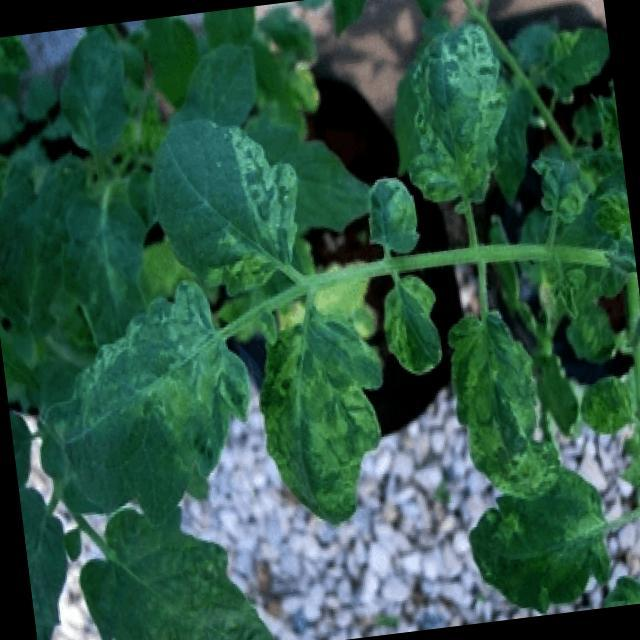Tomato healthy leaf: (67, 485, 282, 640)
Tomato mosaic virus leaf: (17, 271, 268, 542), (248, 295, 401, 532), (140, 103, 314, 310), (378, 4, 521, 225), (440, 300, 564, 508), (457, 460, 614, 623), (375, 267, 453, 384), (524, 134, 600, 228), (355, 165, 423, 260)
